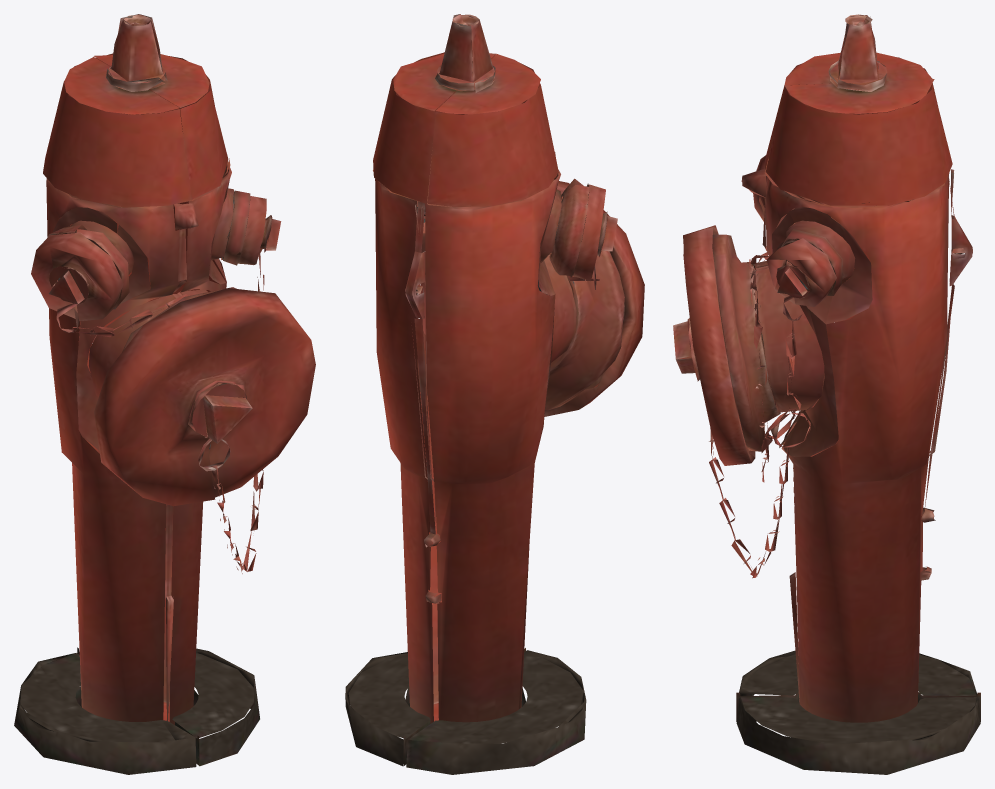
The model's file is ph_hydrant.glb.
3 views of the same model, side by side, from view 1: azimuth 30°, elevation 25°; view 2: azimuth 150°, elevation 25°; view 3: azimuth 270°, elevation 25° (orthographic).
Visible parts, largest first — view 1: fire_hydrant; view 2: fire_hydrant; view 3: fire_hydrant.
Boxes of the visible parts, left/top/right/bottom form: fire_hydrant: left=14, top=14, right=315, bottom=774; fire_hydrant: left=345, top=14, right=644, bottom=774; fire_hydrant: left=673, top=14, right=980, bottom=774.
Bounding box in the file's own units: 0.2743 × 0.8005 × 0.3173.
1 material, 1 textured.
